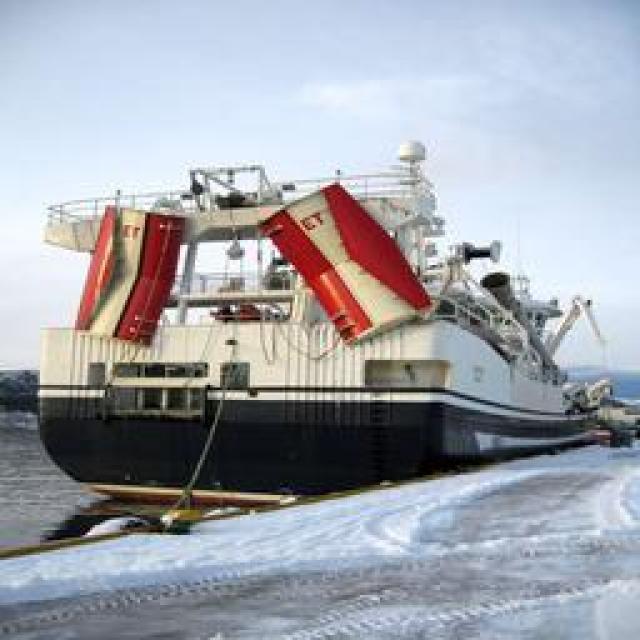CIV_Ship: (31, 144, 621, 522)
